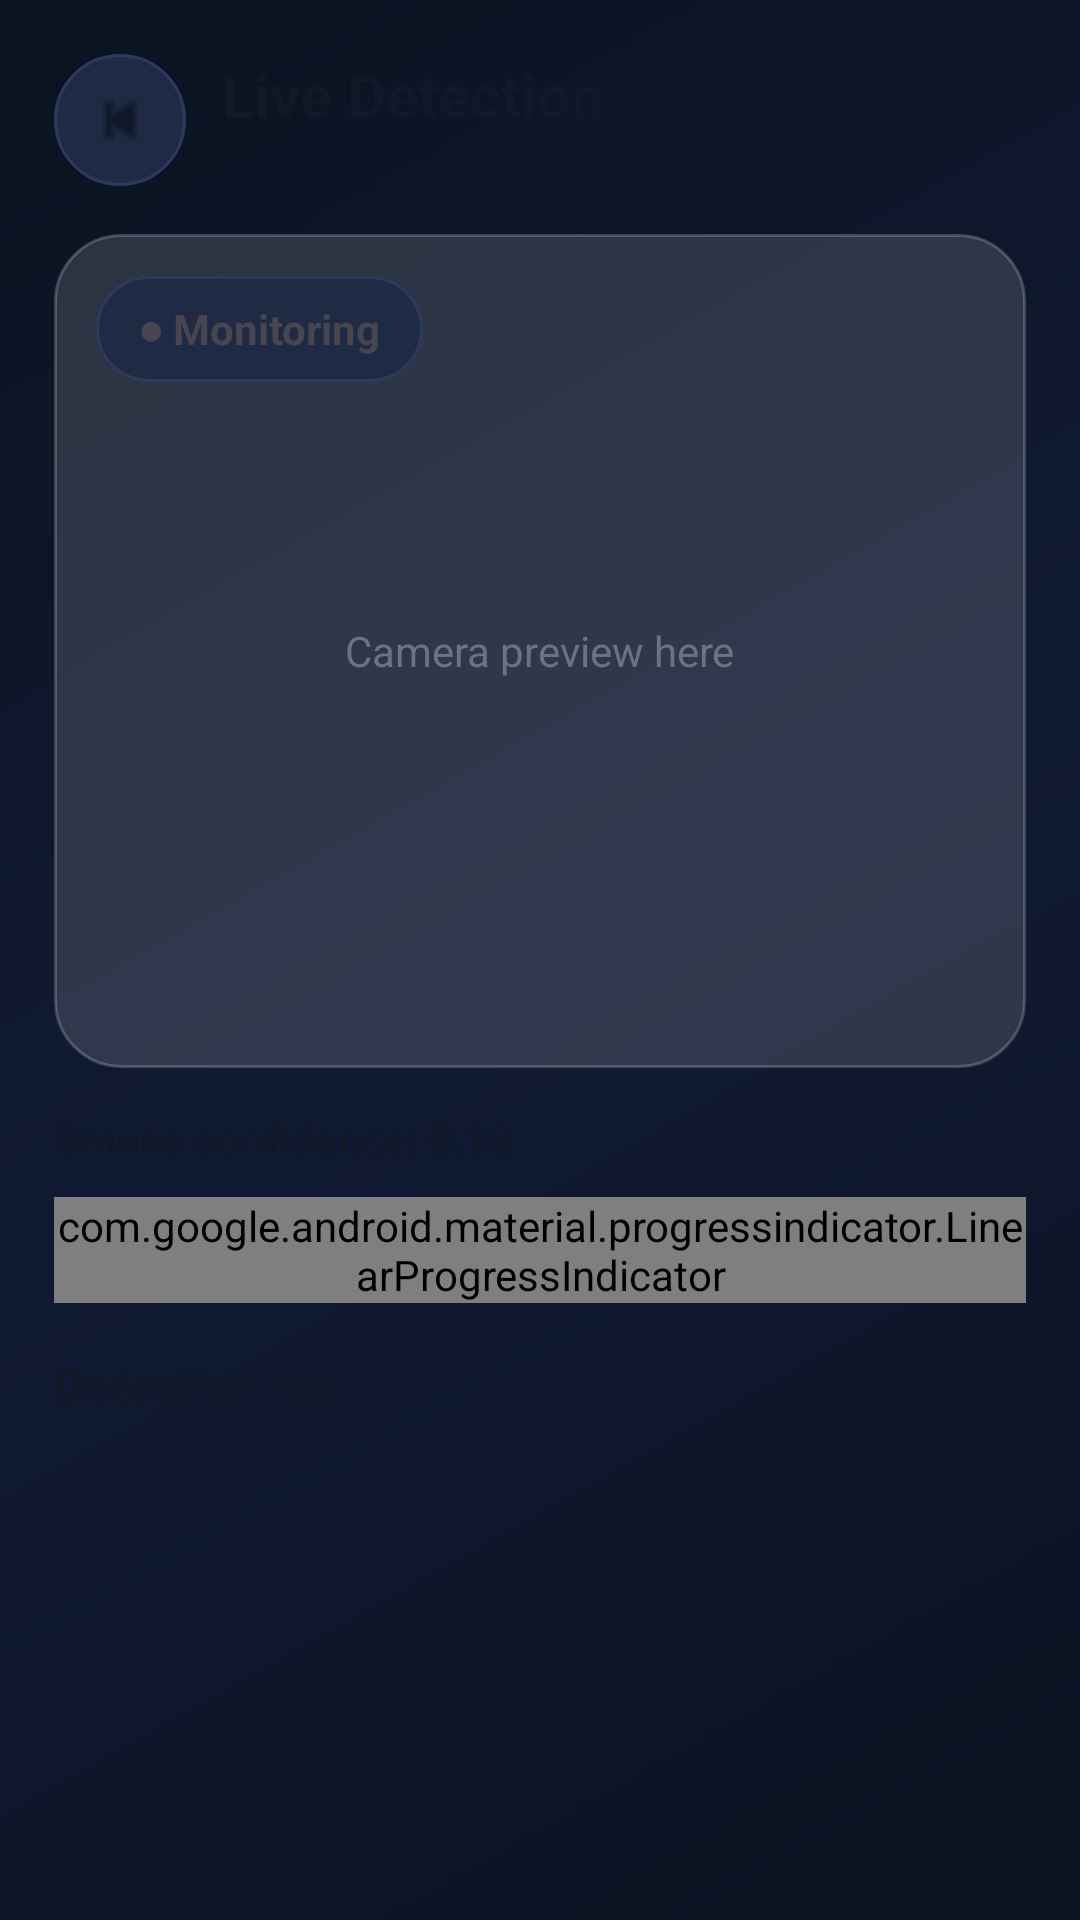

Screen size 1080*1920. Icon name, then its center in pixels as (x=x, y=y):
previous: (x=120, y=120)
